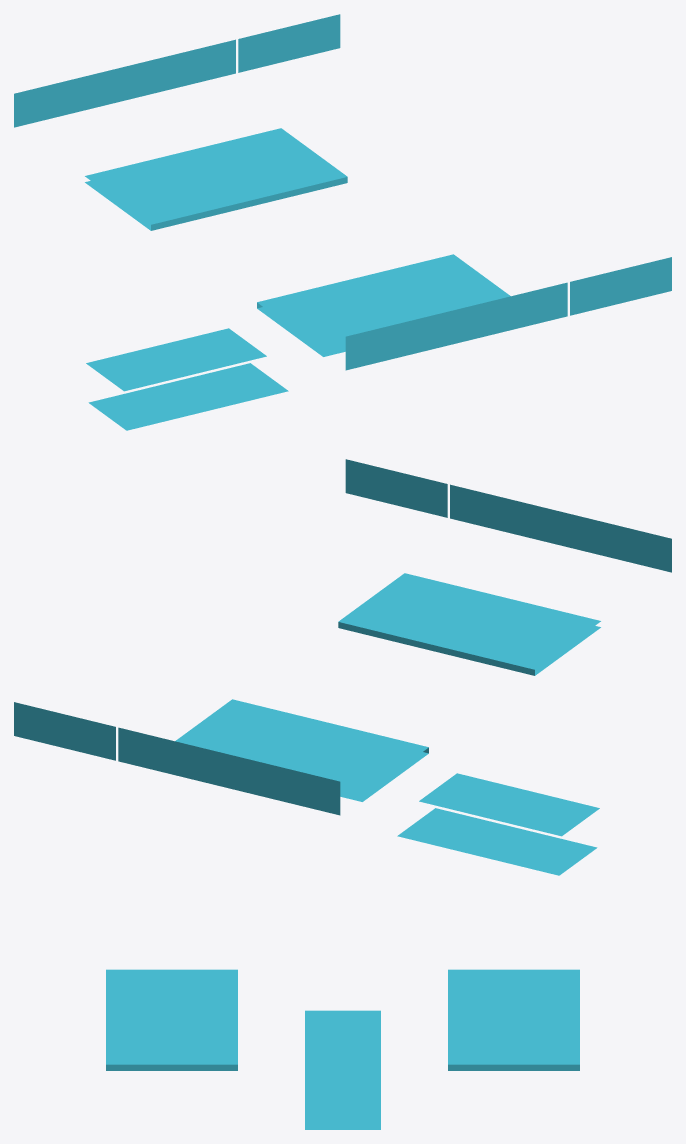
The model's file is TrashMan Building Glass.fbx.
3 renders of one model, top to bottom at view 1: azimuth 30°, elevation 25°; view 2: azimuth 150°, elevation 25°; view 3: azimuth 270°, elevation 25°, orthographic.
Visible parts, largest first — view 1: Trash man Glass; view 2: Trash man Glass; view 3: Trash man Glass.
Boxes of the visible parts, x1,y1,x2,y2 form: Trash man Glass: (14,14,671,430); Trash man Glass: (14,459,671,875); Trash man Glass: (106,969,579,1129).
Bounding box in the file's own units: 5705 × 2499 × 8171.
